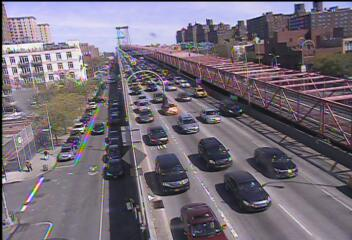neg: (258, 60, 288, 100), (10, 39, 40, 79), (159, 159, 189, 199), (234, 154, 263, 193), (53, 23, 81, 61), (127, 51, 155, 88), (77, 111, 101, 144), (203, 58, 227, 90), (49, 106, 73, 138), (117, 193, 139, 222), (113, 137, 133, 163), (28, 193, 44, 215), (89, 161, 102, 178), (41, 162, 51, 176)
pos: (24, 159, 36, 175)
